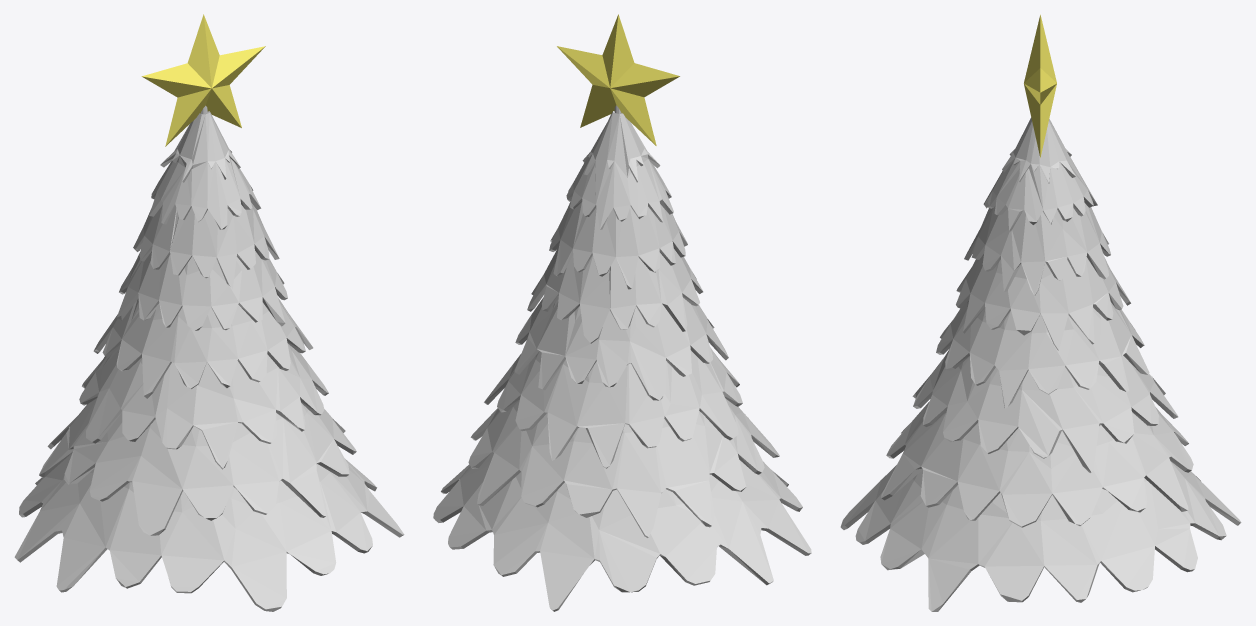
The model's file is tree_christmas_tree.glb.
3 renders of one model, left to right at view 1: azimuth 30°, elevation 25°; view 2: azimuth 150°, elevation 25°; view 3: azimuth 270°, elevation 25°, orthographic.
Parts seen in each view (by area): view 1: Circle.001, Circle.002; view 2: Circle.001, Circle.002; view 3: Circle.001, Circle.002.
Boxes of the visible parts, <box> form: Circle.001: <box>14,111,404,611</box>; Circle.002: <box>141,14,265,146</box>; Circle.001: <box>433,111,811,611</box>; Circle.002: <box>557,14,679,145</box>; Circle.001: <box>840,117,1241,611</box>; Circle.002: <box>1024,14,1056,157</box>.
Size of the model in its own units: 0.2528 by 0.38 by 0.2617.
